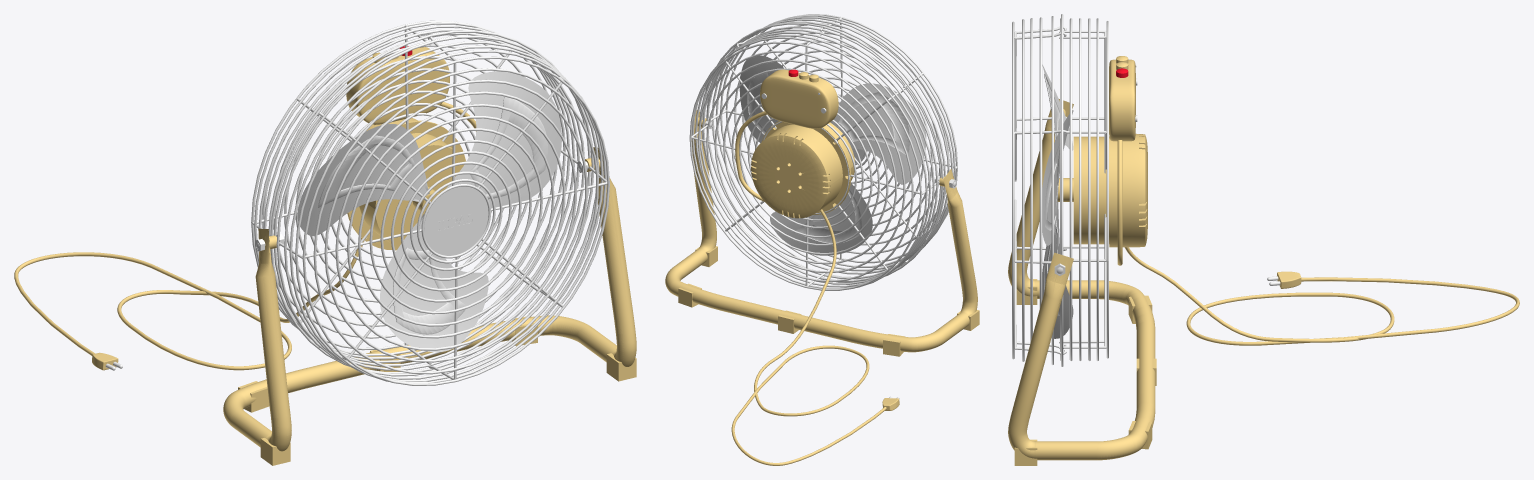
Rendered from fan.glb.
3 views of the same model, side by side, from view 1: azimuth 30°, elevation 25°; view 2: azimuth 150°, elevation 25°; view 3: azimuth 270°, elevation 25° (orthographic). The views are drawn at different scales.
Visible parts, largest first — view 1: Sweep_2, Subdivision_Surface_0, Subdivision_Surface_2, Subdivision_Surface_1, Sweep_1, Cube, Disc, Torus_2_2, Torus_11, Torus_16, Cylinder_2_4_2, Torus_10 (+29 smaller); view 2: Sweep_2, Cylinder_2_3, Subdivision_Surface_1, Cube, Subdivision_Surface_2, Sweep_1, Torus_33, Torus_22, Torus_17, Torus_23, Torus_19, Subdivision_Surface_0 (+24 smaller); view 3: Sweep_2, Sweep_1, Cylinder_2_3, Cylinder_2_4_2, Cube, Subdivision_Surface_0, Torus_21, Torus_14, Torus_16, Torus_18, Torus_17, Torus_19 (+9 smaller).
Part boxes in pixels (box(x1,y1,x2,y2)): Sweep_2: box(223, 147, 636, 451); Subdivision_Surface_0: box(446, 71, 561, 208); Subdivision_Surface_2: box(380, 214, 488, 352); Subdivision_Surface_1: box(297, 124, 429, 236); Sweep_1: box(14, 238, 364, 370); Cube: box(346, 47, 449, 124); Disc: box(424, 186, 488, 255); Torus_2_2: box(302, 56, 609, 385); Torus_11: box(313, 68, 598, 374); Torus_16: box(295, 50, 606, 383); Cylinder_2_4_2: box(359, 133, 466, 247); Torus_10: box(324, 79, 587, 362); Sweep_2: box(665, 110, 977, 352); Cylinder_2_3: box(751, 124, 842, 218); Subdivision_Surface_1: box(832, 83, 926, 184); Cube: box(760, 69, 838, 128); Subdivision_Surface_2: box(770, 182, 872, 255); Sweep_1: box(731, 209, 886, 465); Torus_33: box(689, 41, 921, 290); Torus_22: box(698, 50, 913, 282); Torus_17: box(691, 37, 927, 288); Torus_23: box(706, 59, 905, 273); Torus_19: box(699, 32, 934, 284); Subdivision_Surface_0: box(739, 55, 783, 142); Sweep_2: box(1008, 99, 1155, 460); Sweep_1: box(1124, 247, 1519, 345); Cylinder_2_3: box(1109, 133, 1147, 247); Cylinder_2_4_2: box(1073, 136, 1109, 244); Cube: box(1109, 59, 1135, 141); Subdivision_Surface_0: box(1042, 110, 1073, 245); Torus_21: box(1069, 18, 1072, 360); Torus_14: box(1039, 17, 1042, 308); Torus_16: box(1022, 19, 1024, 361); Torus_18: box(1088, 18, 1090, 360); Torus_17: box(1096, 18, 1098, 360); Torus_19: box(1079, 18, 1081, 360).
Size of the model in its own units: 6.91 by 6.1 by 8.06.
